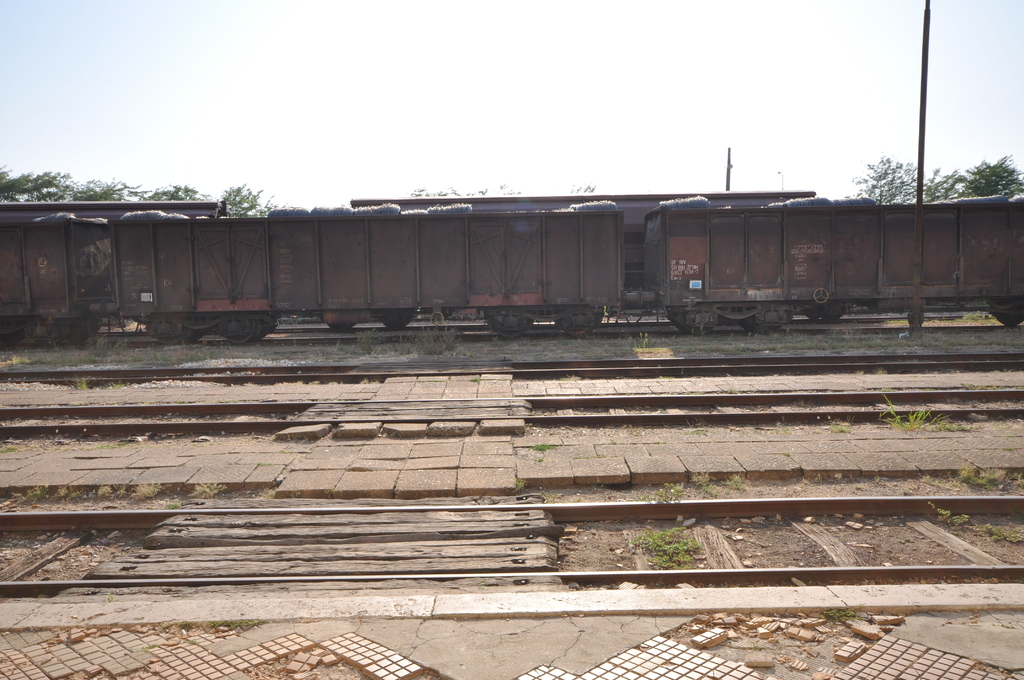train: (0, 197, 1023, 345)
